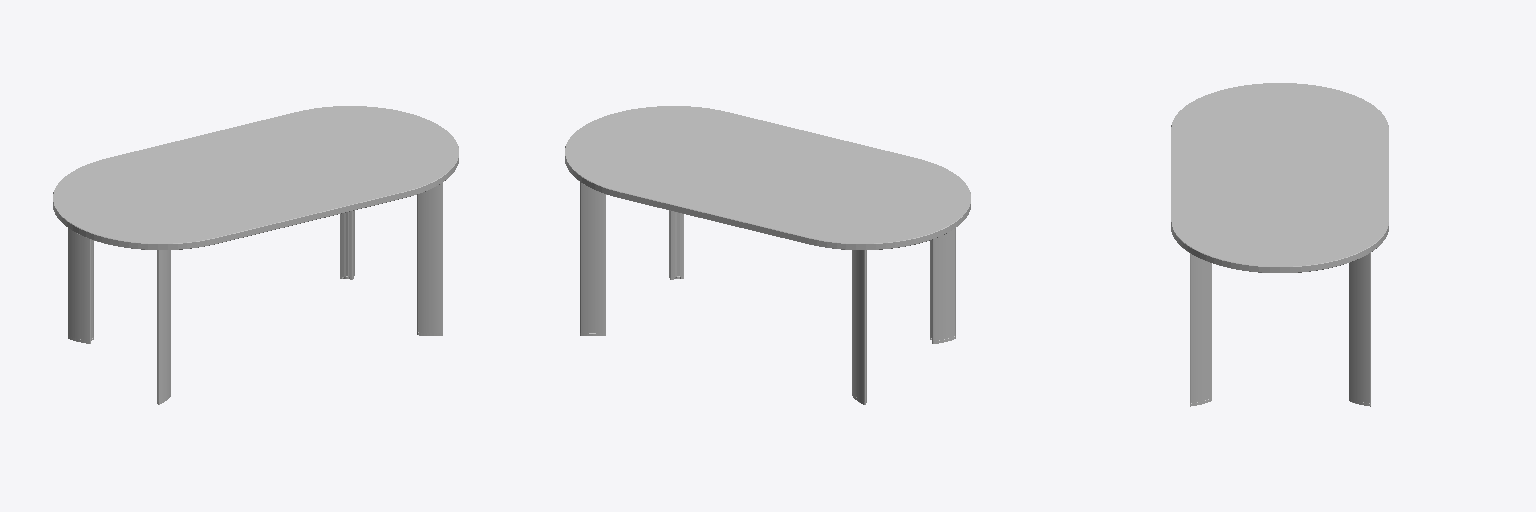
File: table2.obj
3 renders of one model, left to right at view 1: azimuth 30°, elevation 25°; view 2: azimuth 150°, elevation 25°; view 3: azimuth 270°, elevation 25°, orthographic.
Visible parts, largest first — view 1: top02, legs02; view 2: top02, legs02; view 3: top02, legs02.
Part boxes in pixels (bbox=[...]): top02: bbox=[53, 106, 458, 249]; legs02: bbox=[68, 183, 442, 401]; top02: bbox=[565, 106, 970, 249]; legs02: bbox=[580, 182, 955, 401]; top02: bbox=[1171, 83, 1388, 272]; legs02: bbox=[1190, 253, 1370, 403].
Bounding box in the file's own units: 45720 × 18773 × 22860.